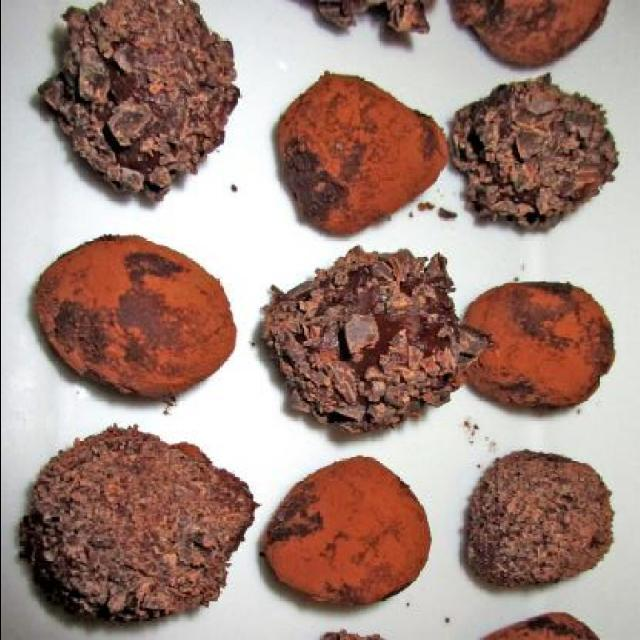Cookie: (17, 422, 258, 624), (261, 244, 497, 438), (37, 1, 245, 202), (31, 230, 237, 398), (274, 70, 450, 236), (446, 71, 624, 231), (258, 453, 436, 609), (462, 449, 622, 591), (463, 279, 617, 410), (445, 0, 613, 72), (306, 0, 432, 35), (482, 608, 602, 640), (319, 629, 383, 640)
